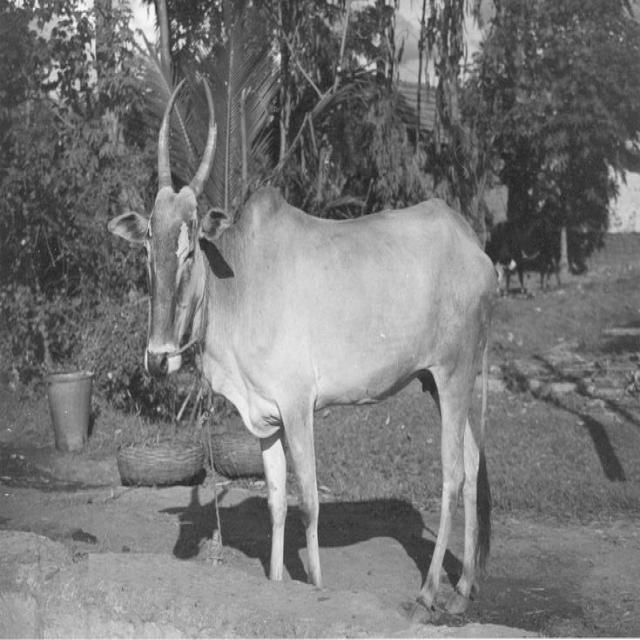Cow: (106, 73, 500, 624)
